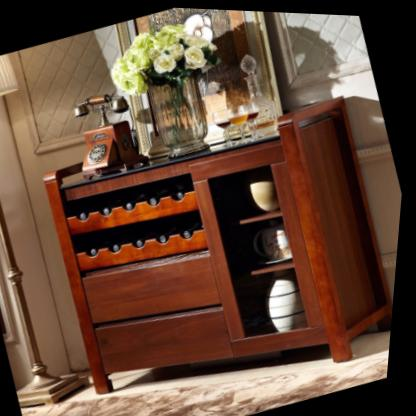Cupboard: (48, 94, 398, 394)
